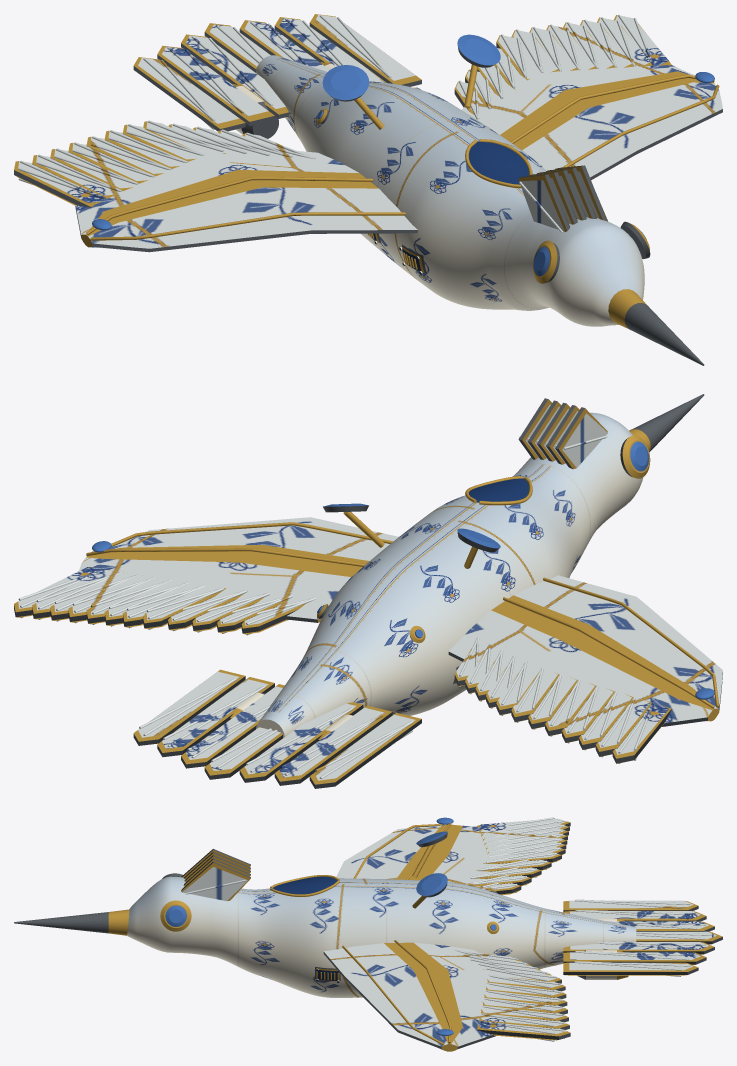
The picture shows the model from 3 angles, top to bottom: view 1: azimuth 30°, elevation 25°; view 2: azimuth 150°, elevation 25°; view 3: azimuth 270°, elevation 25°; orthographic projection. The views are drawn at different scales.
Parts seen in each view (by area): view 1: kingfisher_hull; view 2: kingfisher_hull; view 3: kingfisher_hull.
Part boxes in pixels (x1,y1,x2,y2): kingfisher_hull: (14, 14, 722, 365); kingfisher_hull: (14, 394, 722, 788); kingfisher_hull: (14, 817, 722, 1051).
Size of the model in its own units: 12.5 by 3.63 by 17.
1 material, 1 textured.
